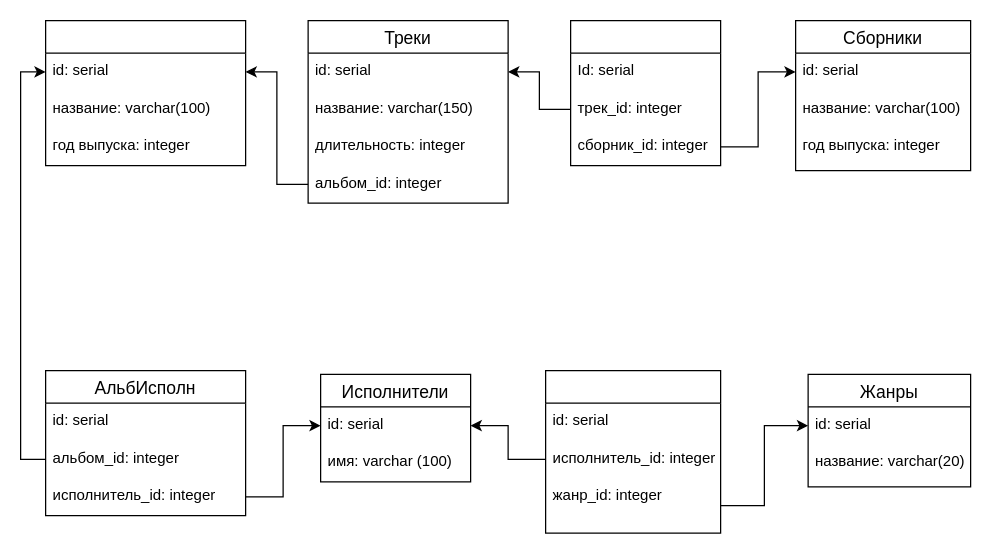
Some shapes in this 991 by 554 pixel diagram are drawn without their labels. Each missing label, with the box of its shape:
Альбомы: (44, 19, 246, 166)
ИсполнЖанры: (544, 369, 721, 533)
ТрекСборник: (569, 19, 721, 166)
